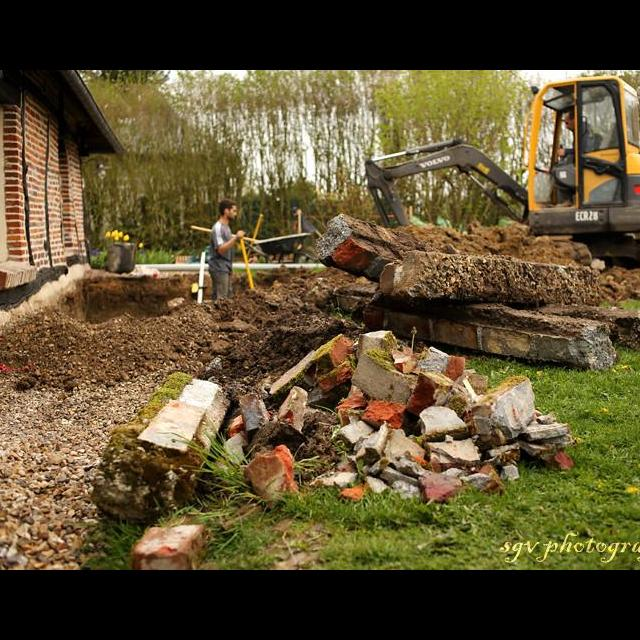Excavator: (364, 76, 640, 274)
NO-Hardhat: (219, 197, 235, 207), (565, 109, 577, 116)
NO-Mask: (567, 125, 576, 134), (229, 211, 237, 219)
NO-Safety Vest: (208, 222, 234, 273), (576, 126, 595, 151)
Person: (550, 106, 603, 208), (208, 197, 245, 302)
